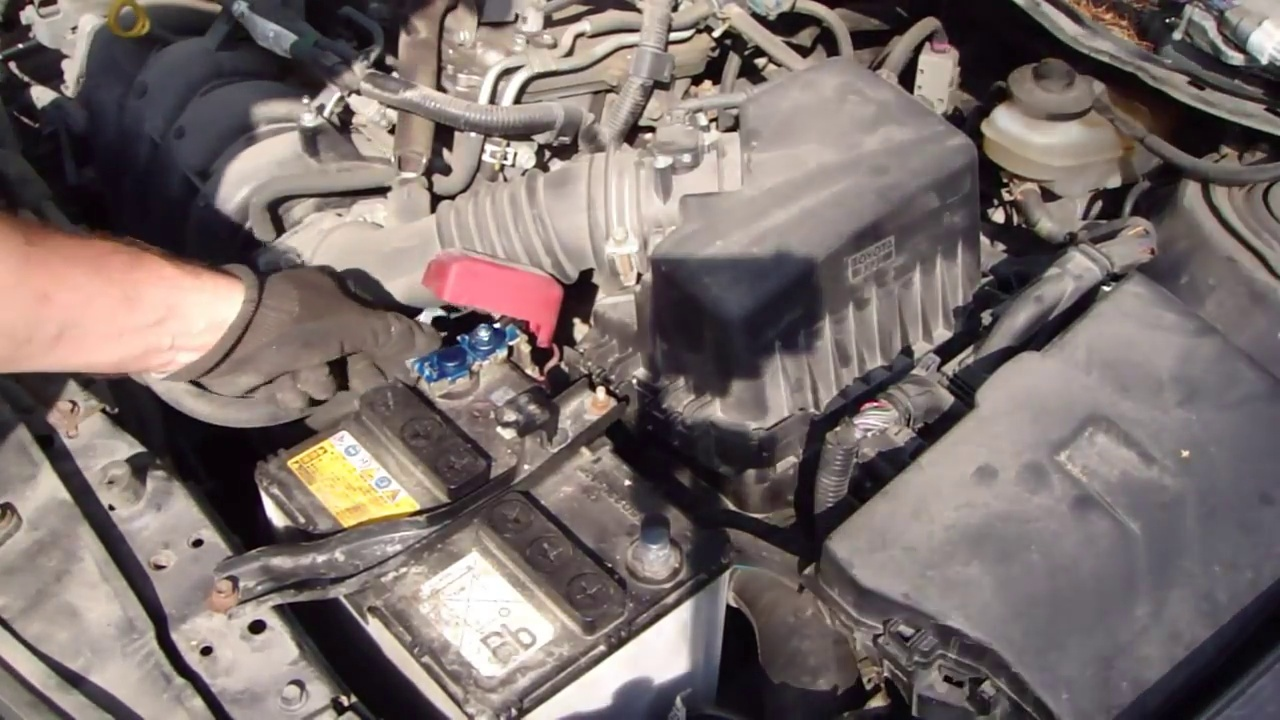battery: (257, 306, 721, 688)
neg_disconnected: (596, 511, 709, 593)
pos_connected: (393, 242, 558, 408)
pos_touched: (297, 260, 572, 398)
